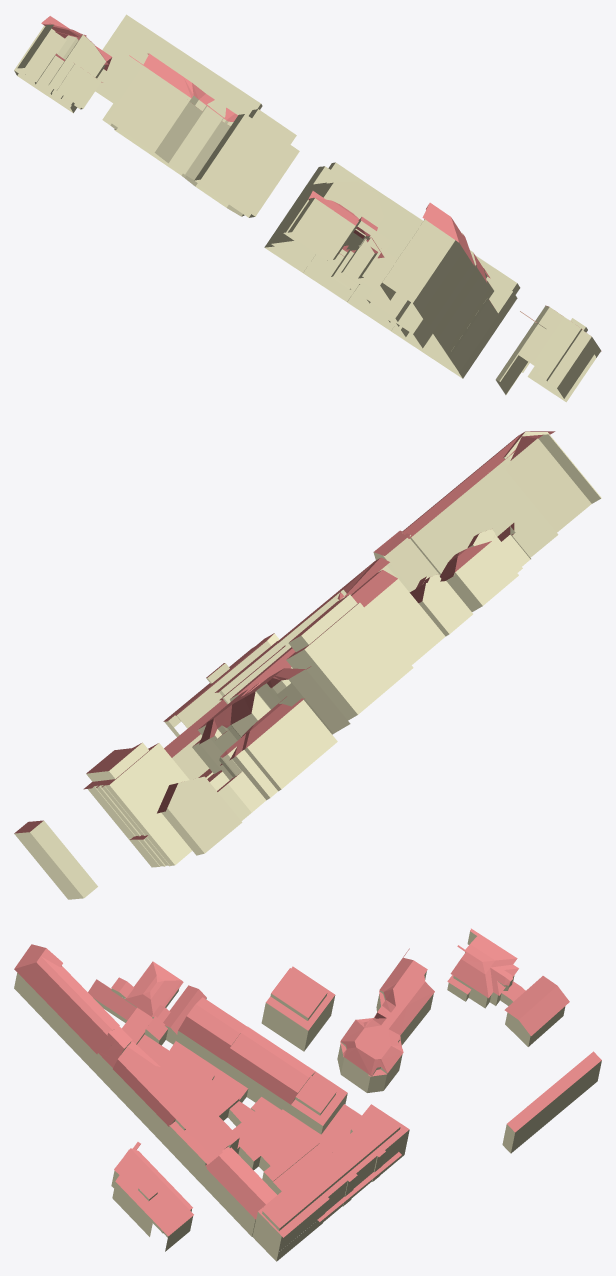
The model's file is tile_018.glb.
The picture shows the model from 3 angles, top to bottom: view 1: azimuth 30°, elevation 25°; view 2: azimuth 150°, elevation 25°; view 3: azimuth 270°, elevation 25°; orthographic projection. The views are drawn at different scales.
Visible parts, largest first — view 1: Batched_Building_ID_2BBA2CB1-8C5A-40F8-BAF9-9326288301FC, Batched_Building_ID_812962A6-1863-4A5F-AB38-A021F4DECBA0; view 2: Batched_Building_ID_2BBA2CB1-8C5A-40F8-BAF9-9326288301FC, Batched_Building_ID_812962A6-1863-4A5F-AB38-A021F4DECBA0; view 3: Batched_Building_ID_812962A6-1863-4A5F-AB38-A021F4DECBA0, Batched_Building_ID_2BBA2CB1-8C5A-40F8-BAF9-9326288301FC.
Boxes of the visible parts, x1,y1,x2,y2 form: Batched_Building_ID_2BBA2CB1-8C5A-40F8-BAF9-9326288301FC: [14, 14, 600, 402]; Batched_Building_ID_812962A6-1863-4A5F-AB38-A021F4DECBA0: [41, 16, 601, 351]; Batched_Building_ID_2BBA2CB1-8C5A-40F8-BAF9-9326288301FC: [14, 431, 601, 899]; Batched_Building_ID_812962A6-1863-4A5F-AB38-A021F4DECBA0: [14, 431, 555, 839]; Batched_Building_ID_812962A6-1863-4A5F-AB38-A021F4DECBA0: [14, 928, 601, 1237]; Batched_Building_ID_2BBA2CB1-8C5A-40F8-BAF9-9326288301FC: [14, 931, 601, 1261].
Bounding box in the file's own units: 121 × 106 × 230.
